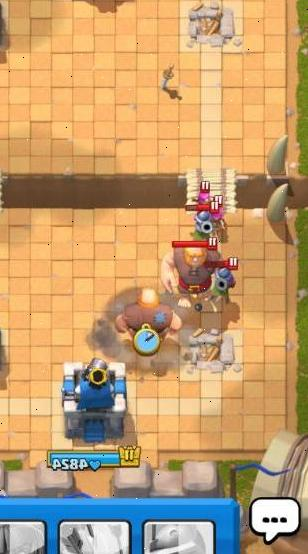enemy_archers: (210, 199, 229, 237), (190, 179, 214, 204)
enemy_giant: (159, 237, 221, 303)
enemy_minions: (206, 256, 242, 298)
enemy_musketeer: (184, 200, 220, 236)
player_giant: (111, 284, 183, 344)
